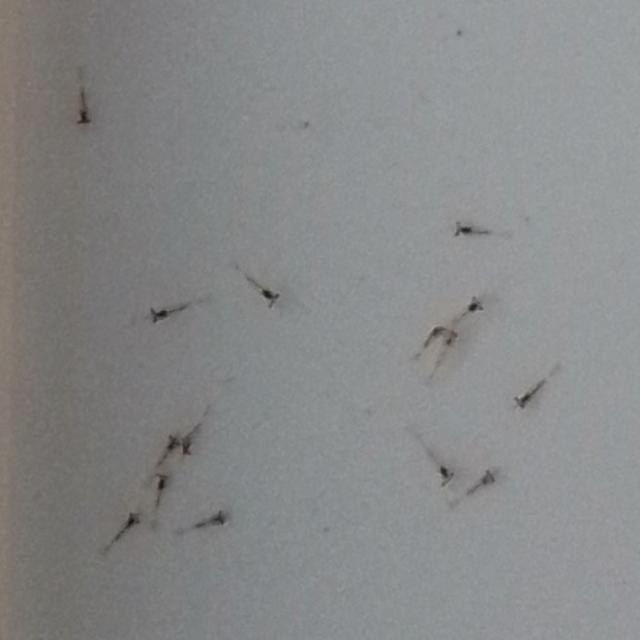shrimp-seed: (70, 88, 98, 128), (514, 378, 546, 408), (194, 506, 228, 532), (255, 282, 285, 311), (114, 508, 142, 538), (147, 301, 176, 328), (175, 432, 198, 461), (420, 322, 445, 348), (150, 470, 172, 498), (454, 217, 478, 240), (464, 292, 487, 316), (439, 329, 461, 354), (473, 468, 498, 490), (434, 462, 456, 486), (160, 430, 181, 454)
